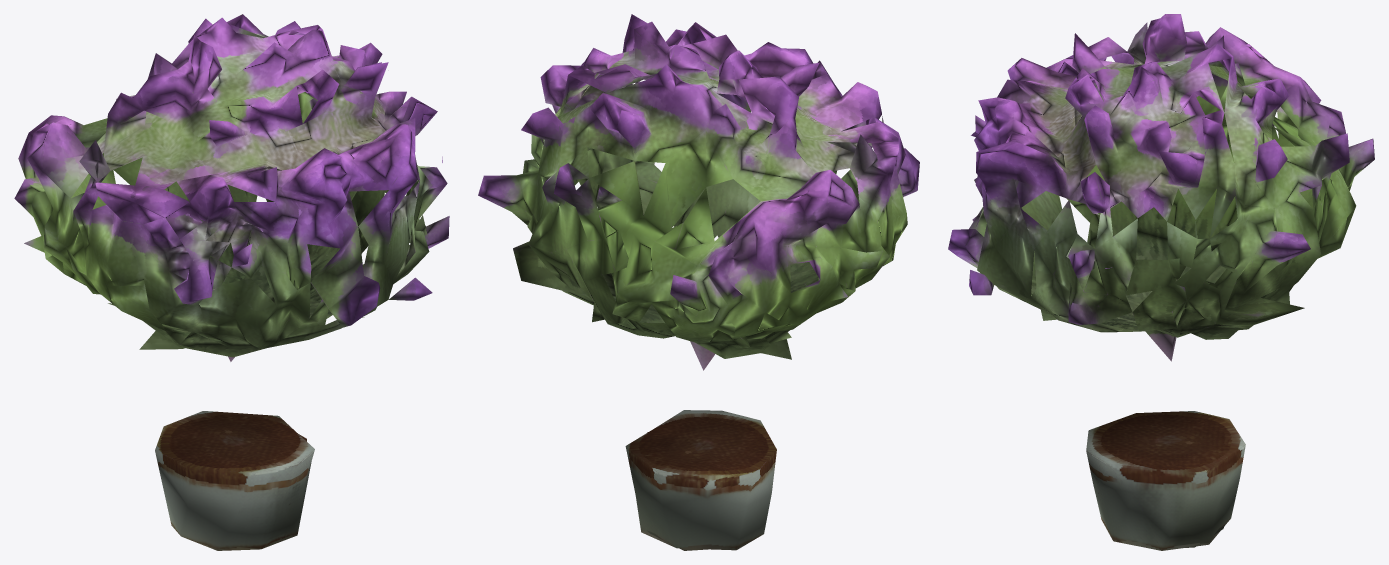
File: lavender.glb
3 views of the same model, side by side, from view 1: azimuth 30°, elevation 25°; view 2: azimuth 150°, elevation 25°; view 3: azimuth 270°, elevation 25° (orthographic).
Visible parts, largest first — view 1: geometry_0; view 2: geometry_0; view 3: geometry_0.
Boxes of the visible parts, box(x1,y1,x2,y2) form: geometry_0: box(14, 14, 449, 550); geometry_0: box(478, 14, 919, 550); geometry_0: box(948, 14, 1374, 550).
Bounding box in the file's own units: 0.7615 × 0.985 × 0.7703.
Materials: 1 (1 with a texture image).
